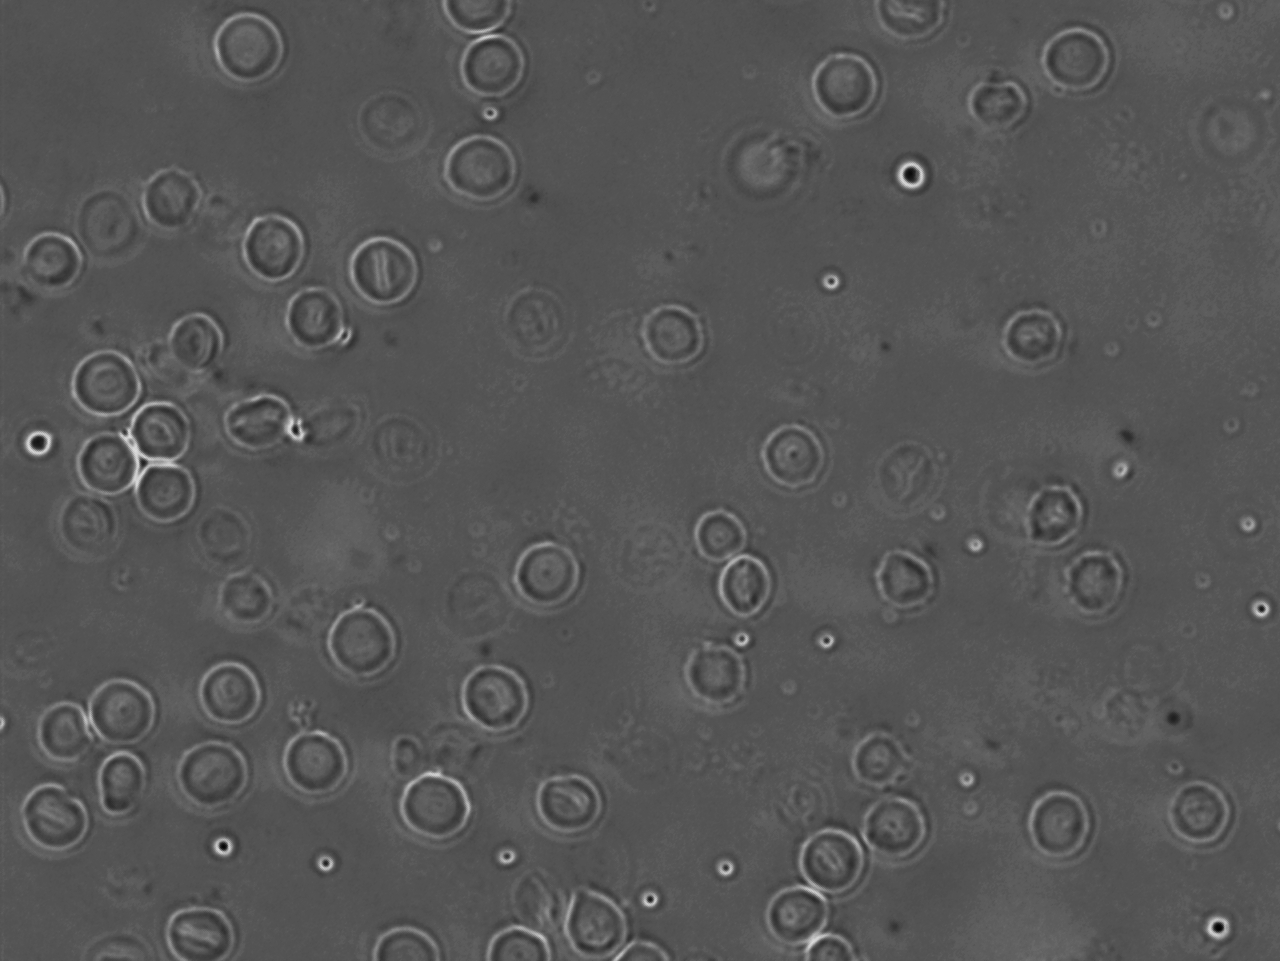depth:0: (803, 42, 898, 141), (1029, 16, 1125, 108), (673, 628, 766, 722), (203, 0, 295, 95), (752, 416, 838, 517), (451, 655, 545, 747), (15, 776, 110, 867), (868, 533, 960, 625), (333, 227, 427, 315), (433, 128, 522, 220), (838, 789, 932, 876), (112, 395, 208, 479), (633, 292, 723, 382), (1156, 771, 1246, 860), (451, 19, 542, 107), (1015, 776, 1100, 868), (166, 723, 255, 809), (995, 296, 1087, 380), (318, 596, 407, 680), (219, 206, 309, 290), (526, 758, 616, 842), (505, 527, 591, 613), (390, 761, 473, 848), (790, 816, 873, 903), (272, 721, 358, 803), (142, 158, 229, 239), (188, 649, 276, 729), (69, 422, 149, 506), (275, 279, 358, 359), (65, 348, 147, 426), (690, 498, 775, 573), (76, 671, 159, 747), (548, 886, 633, 961), (131, 451, 211, 530), (159, 301, 235, 379), (25, 699, 99, 768), (369, 909, 452, 961), (477, 918, 558, 961)
